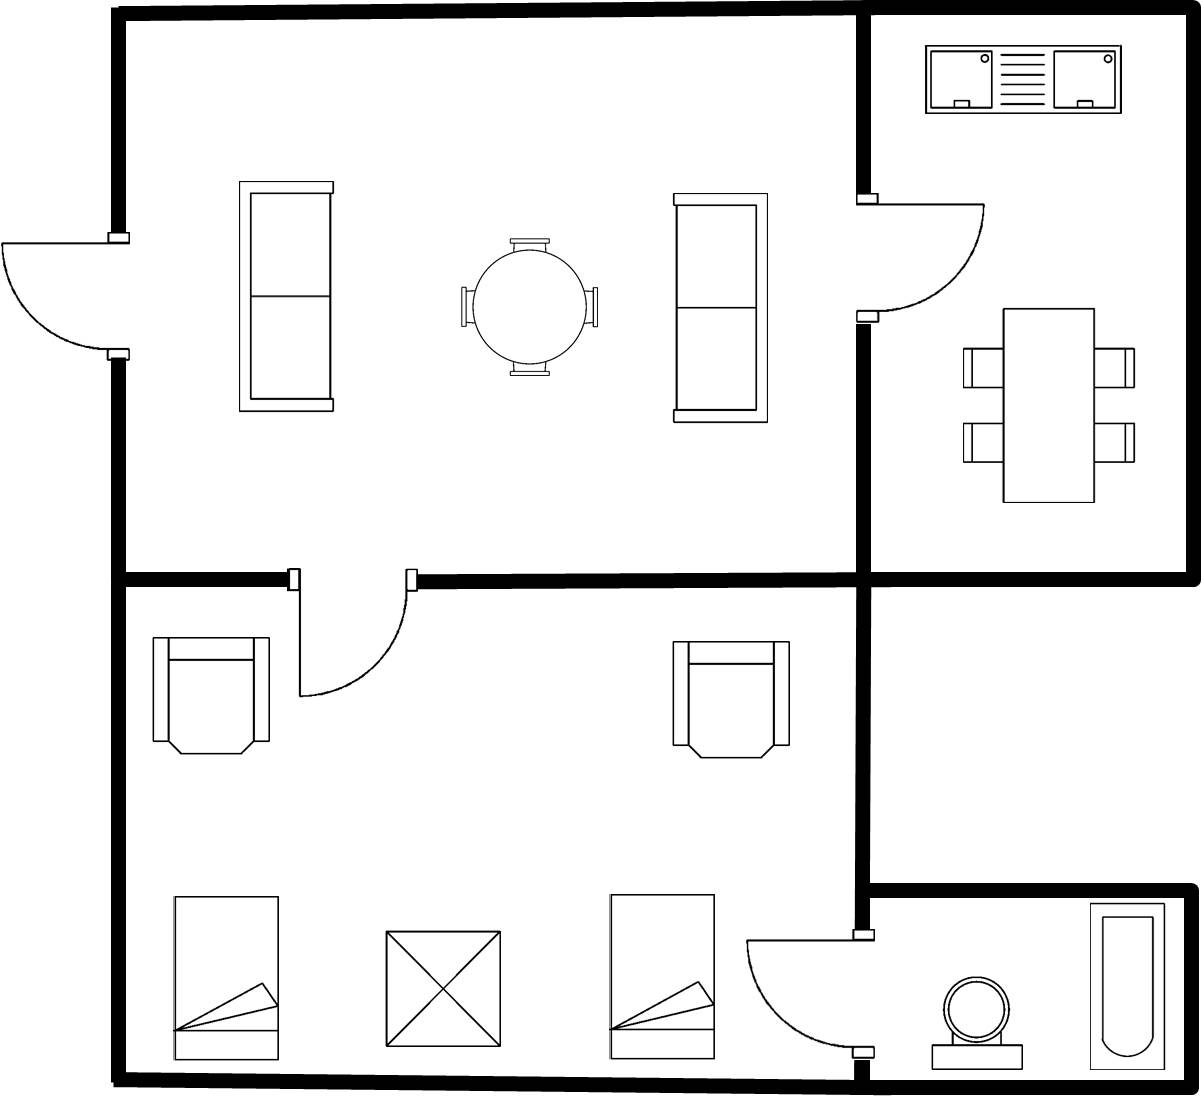armchair: (147, 630, 277, 764), (667, 635, 797, 765)
bed: (601, 886, 721, 1066), (165, 889, 285, 1067)
coffee_table: (375, 923, 509, 1053)
dining_table: (954, 301, 1141, 512)
large_sink: (922, 969, 1034, 1076)
large_sofa: (666, 183, 777, 433), (230, 172, 341, 420)
round_table: (453, 231, 604, 384)
tub: (1085, 898, 1171, 1080)
twin_sink: (917, 39, 1130, 123)
